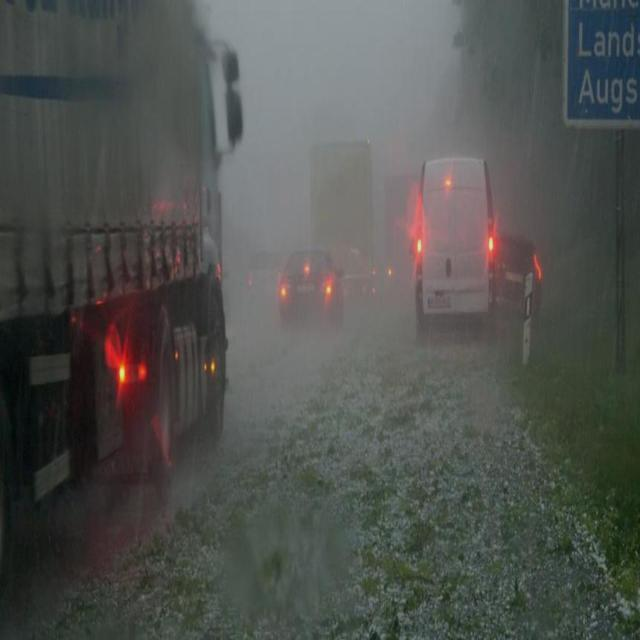Car: (278, 251, 346, 331), (488, 233, 548, 320)
Truck: (0, 0, 246, 559), (309, 133, 376, 301)
Van: (415, 153, 497, 340)
